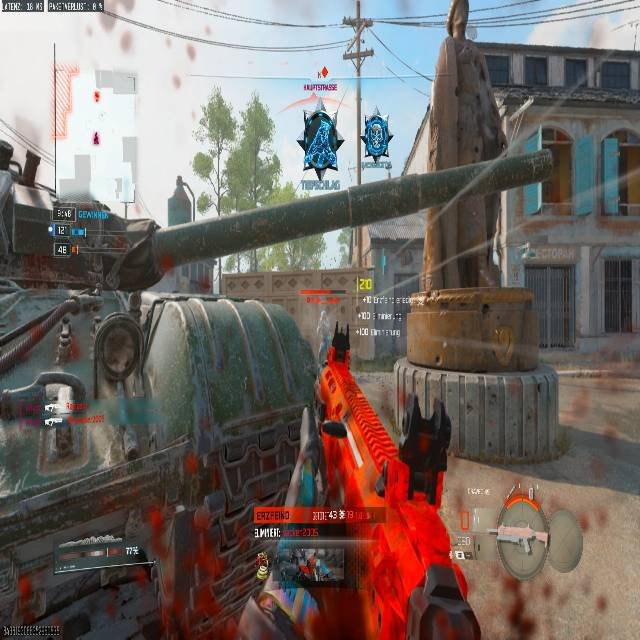head: (96, 320, 139, 377)
player: (298, 109, 342, 181), (363, 111, 391, 164)
